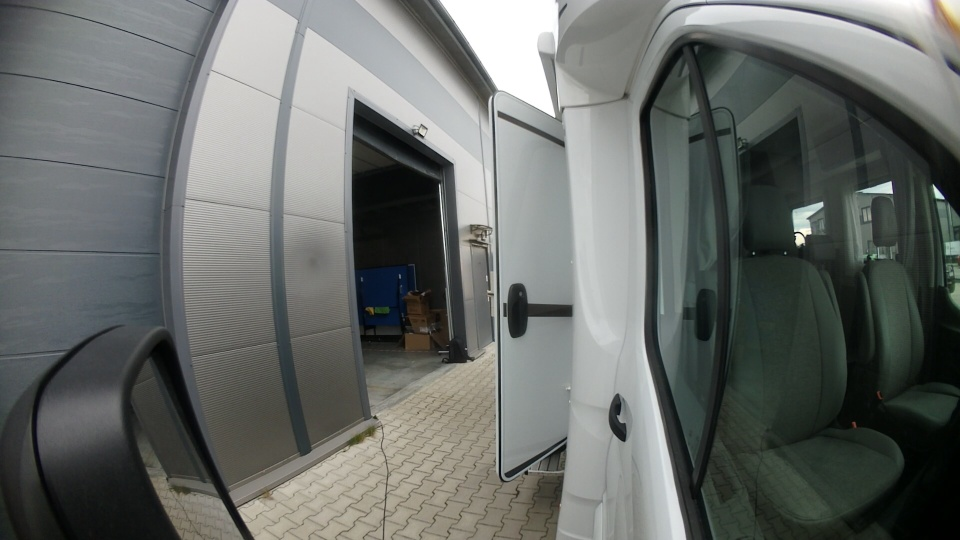door_front: (478, 84, 584, 487)
step_front: (521, 436, 577, 482)
